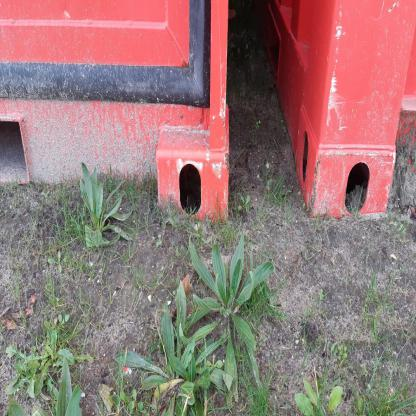CornerCasting: (295, 113, 395, 216), (158, 140, 232, 222)
